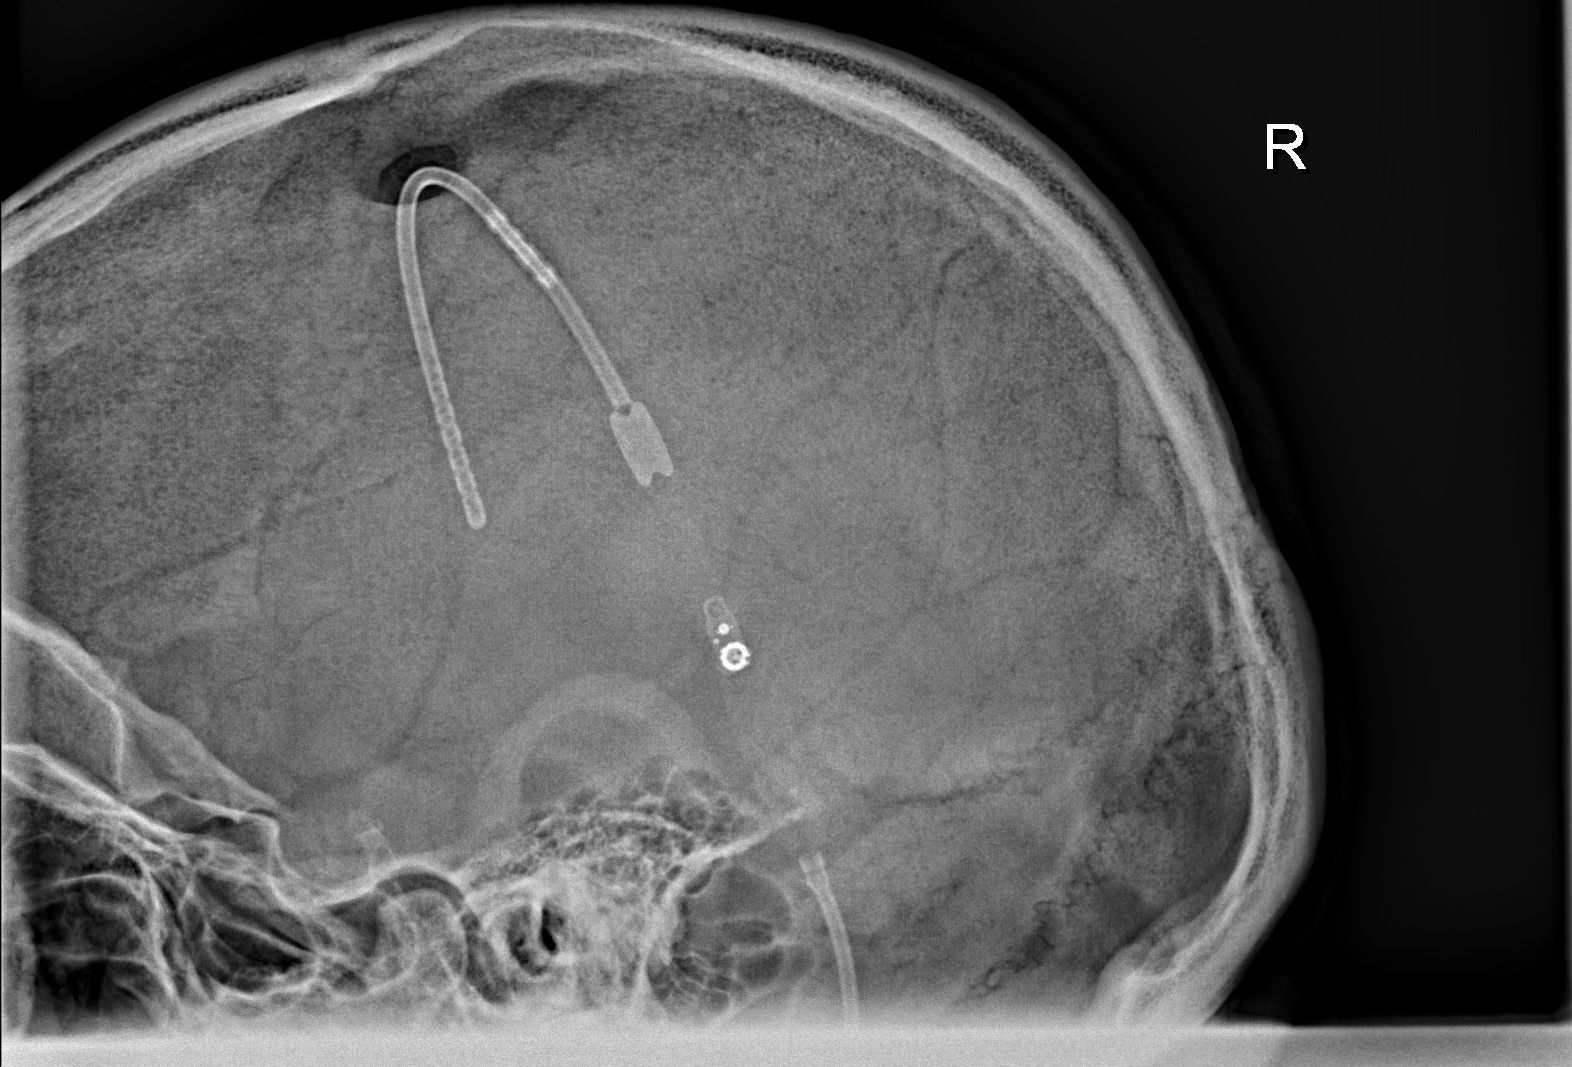Codman Hakim: (690, 591, 765, 697)
